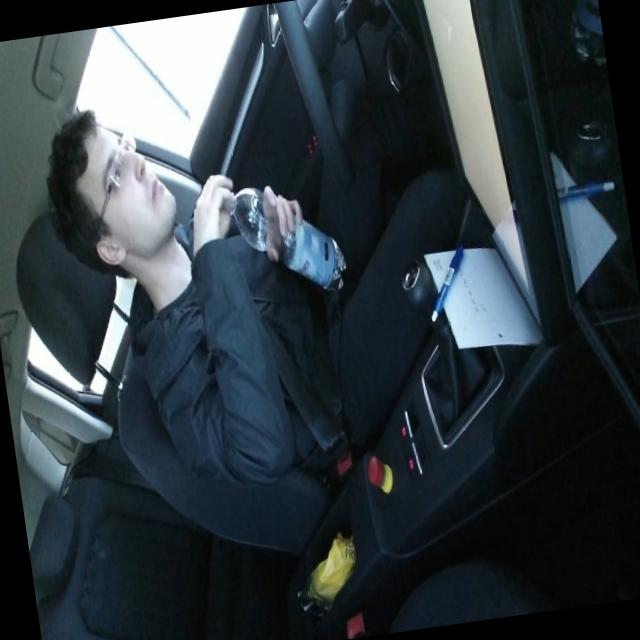pen: (420, 238, 476, 324)
